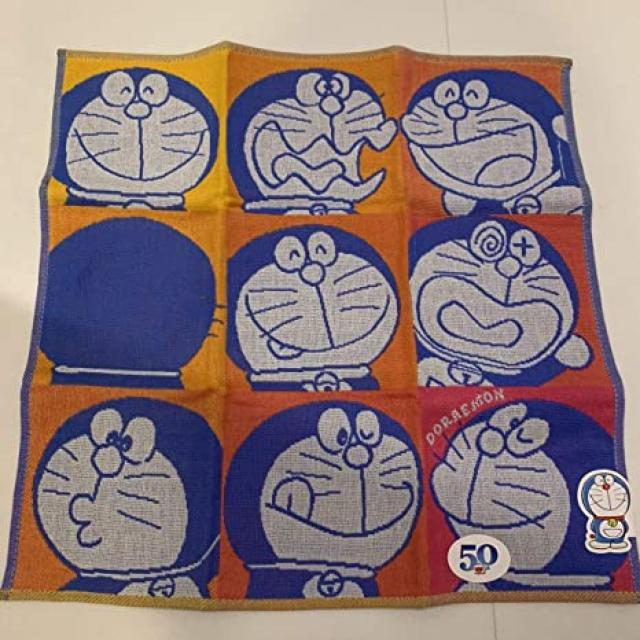doraemon: (25, 394, 234, 611), (232, 390, 434, 613), (221, 217, 415, 397), (405, 212, 596, 388), (428, 394, 586, 584), (228, 62, 404, 226), (397, 59, 578, 218), (49, 60, 226, 213), (576, 462, 638, 558)
